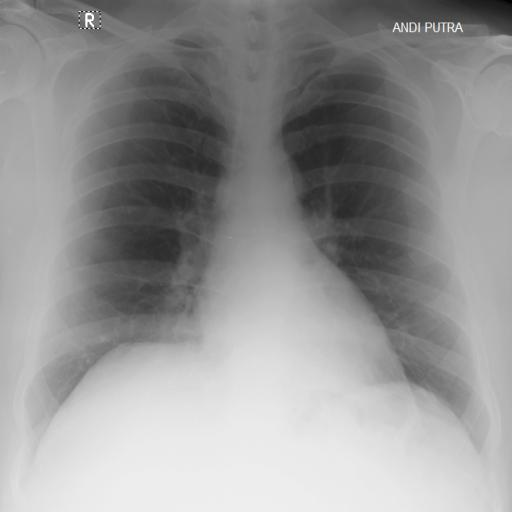kardiomegali: (12, 6, 500, 487)
